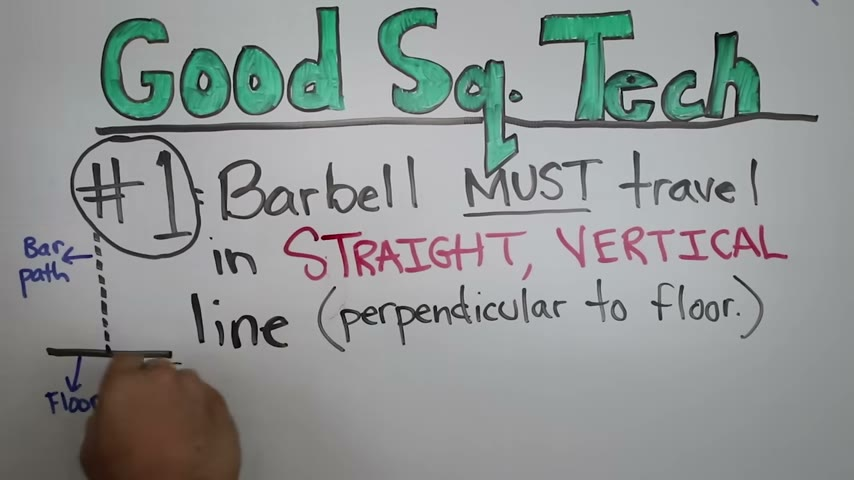barbell_plate_side: (63, 131, 128, 270)
